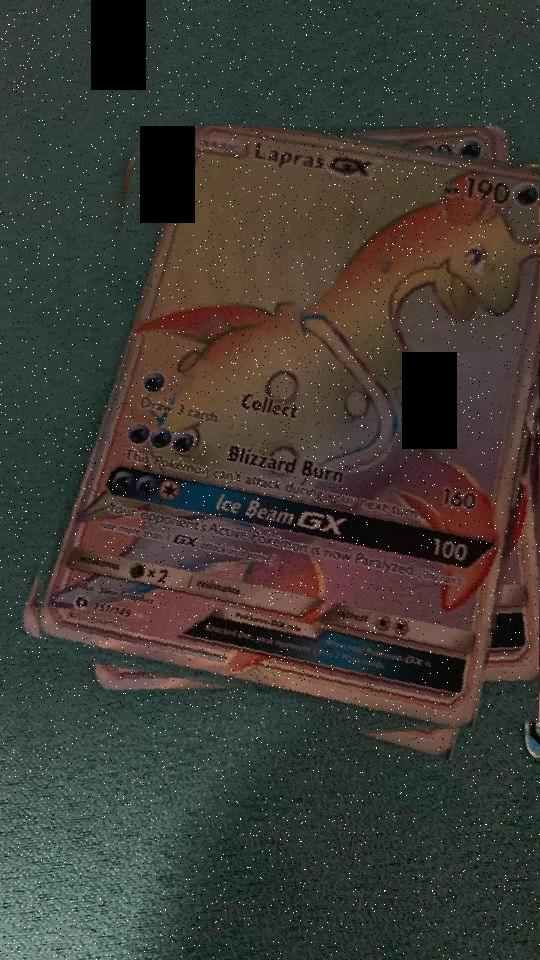card: (39, 126, 539, 729)
